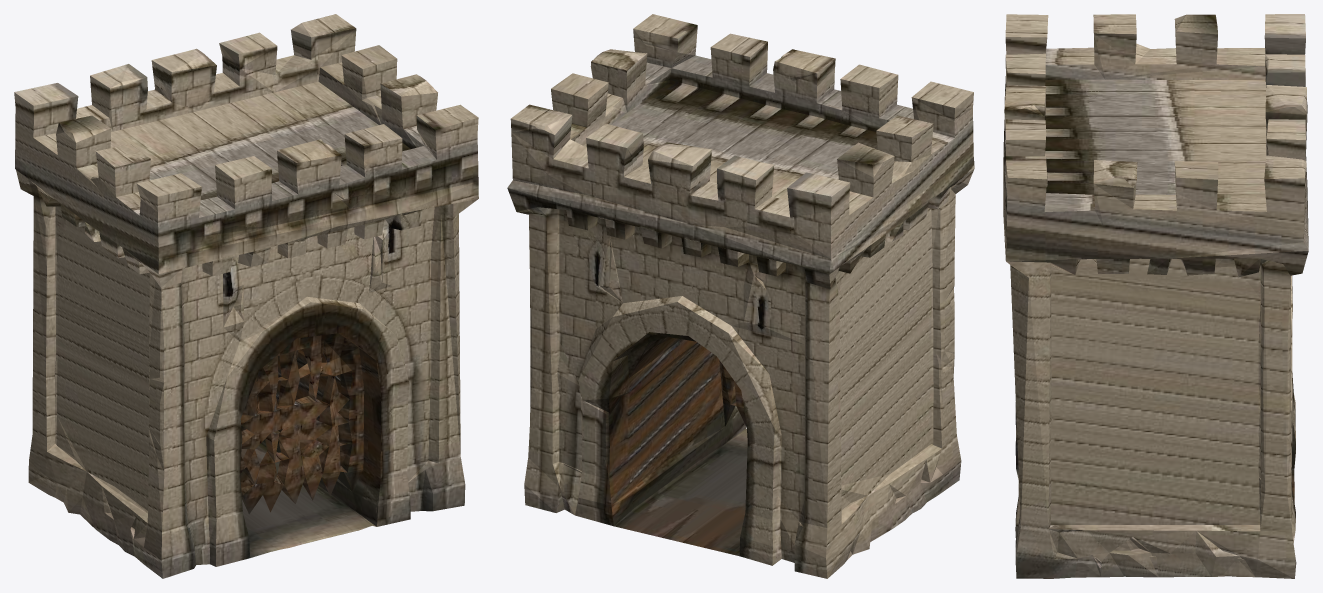
File: gate.glb
The picture shows the model from 3 angles, left to right: view 1: azimuth 30°, elevation 25°; view 2: azimuth 150°, elevation 25°; view 3: azimuth 270°, elevation 25°; orthographic projection. The views are drawn at different scales.
Visible parts, largest first — view 1: geometry_0; view 2: geometry_0; view 3: geometry_0.
Boxes of the visible parts, bbox=[...] form: geometry_0: bbox=[14, 14, 478, 578]; geometry_0: bbox=[507, 14, 974, 578]; geometry_0: bbox=[1003, 14, 1308, 578].
Size of the model in its own units: 7.86 by 9 by 6.12.
1 material, 1 textured.
